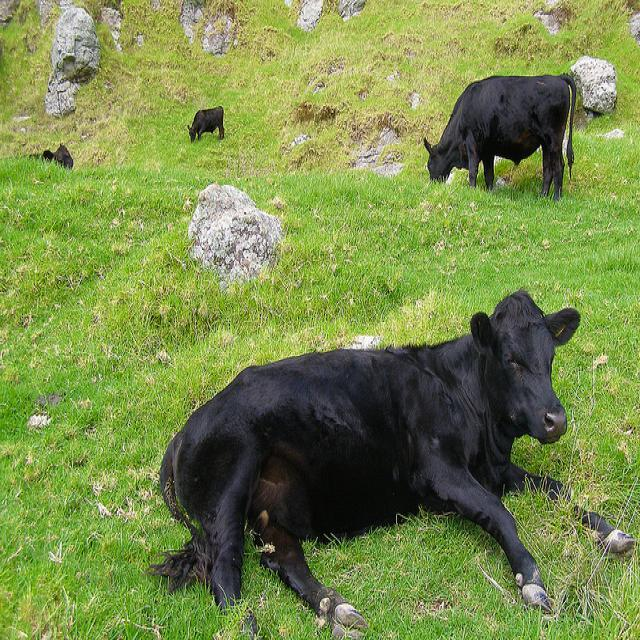cow: (145, 281, 633, 628), (420, 69, 578, 200), (186, 105, 223, 141), (40, 141, 72, 166)
